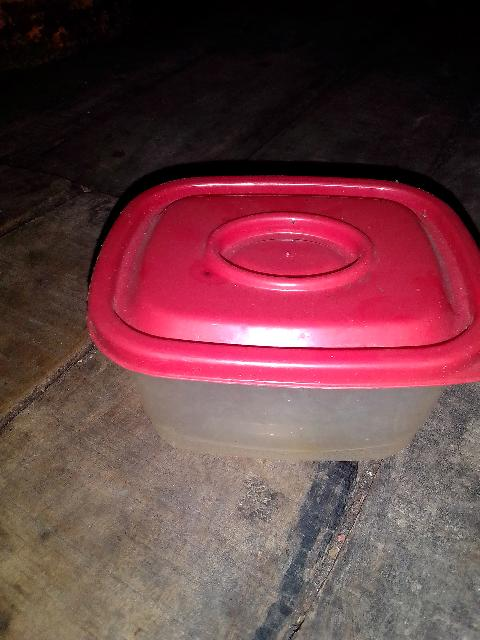hardplastic: (65, 150, 480, 455)
